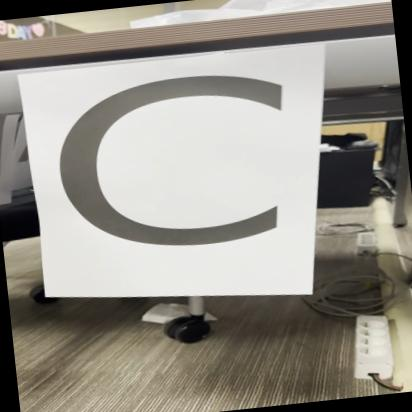seat: (24, 53, 314, 315)
